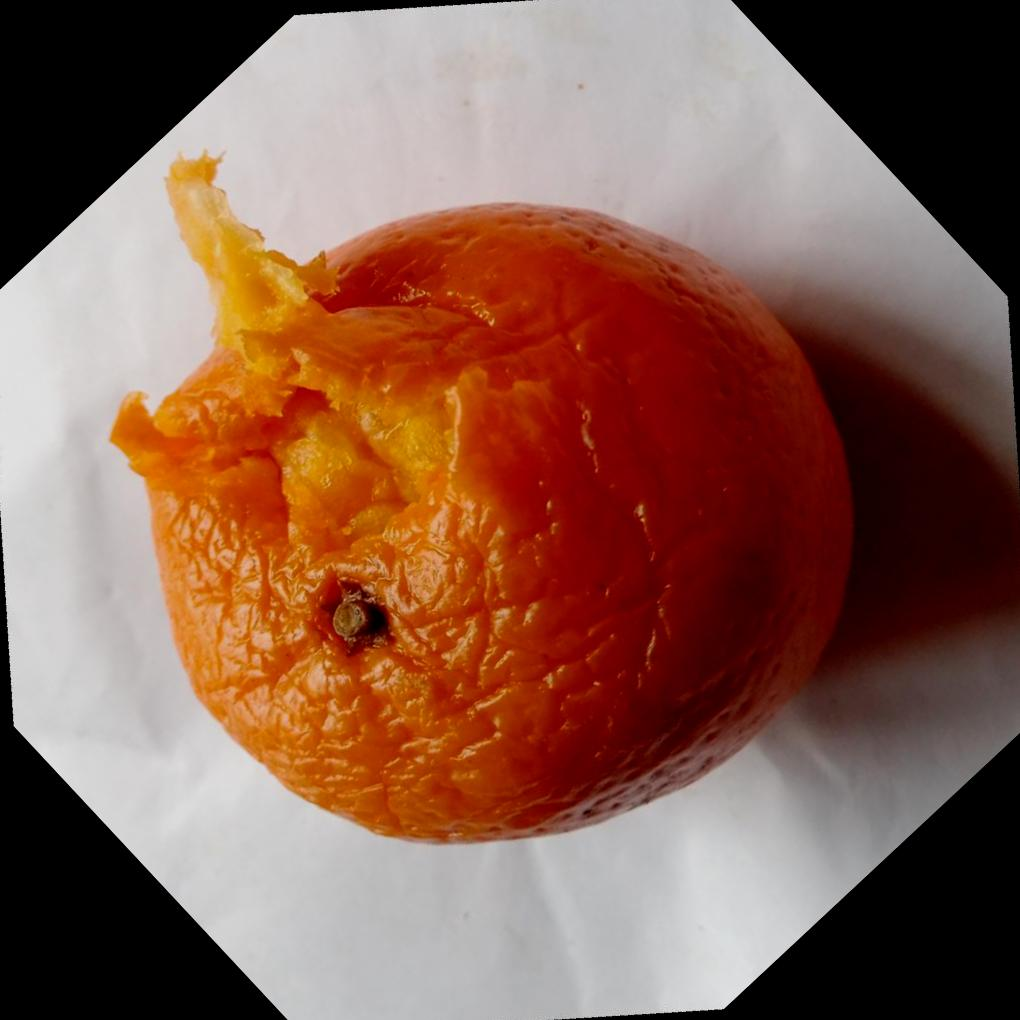FreshOrange: (107, 157, 859, 850)
